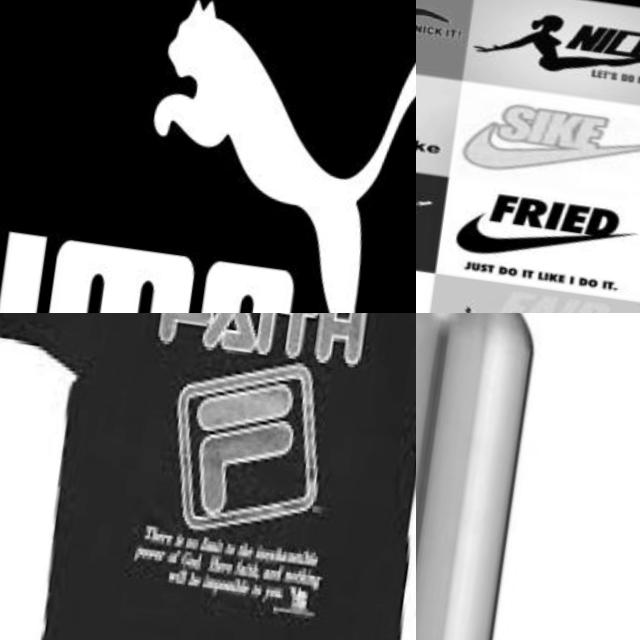FILA_fake: (111, 313, 393, 560)
NIKE_fake: (449, 184, 640, 295), (458, 92, 640, 190), (466, 0, 640, 101), (437, 279, 640, 313), (416, 69, 468, 171)
PUMA_original: (0, 0, 416, 313)
